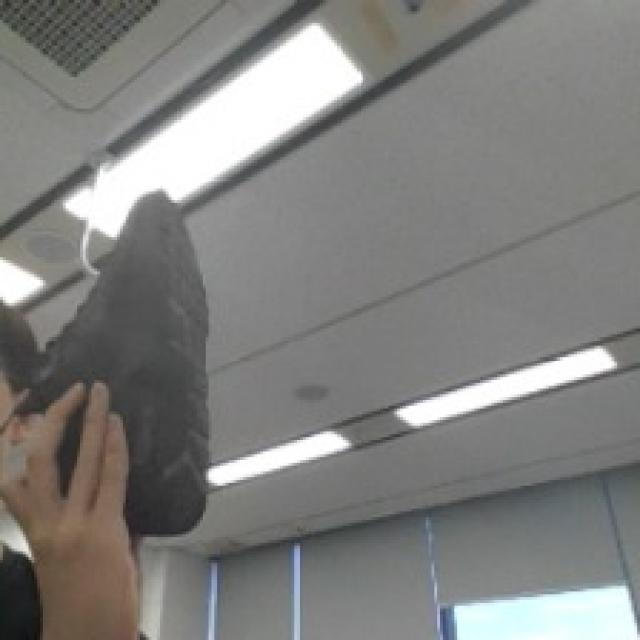shoe: (58, 157, 225, 552)
